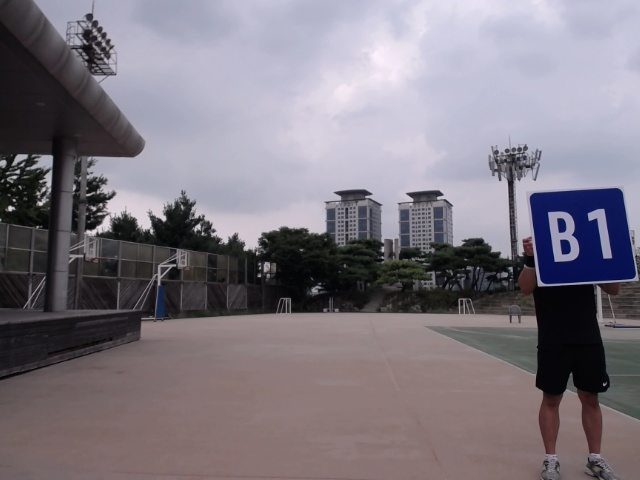delivery_b1: (528, 187, 639, 286)
